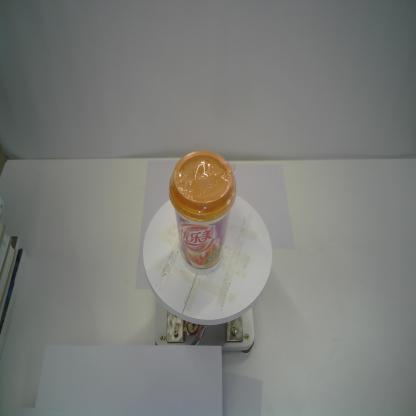Instant Drink: (167, 148, 238, 278)
